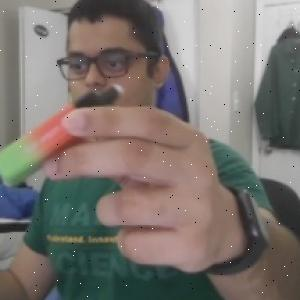Swift-E-Ciggirate: (0, 78, 131, 187)
